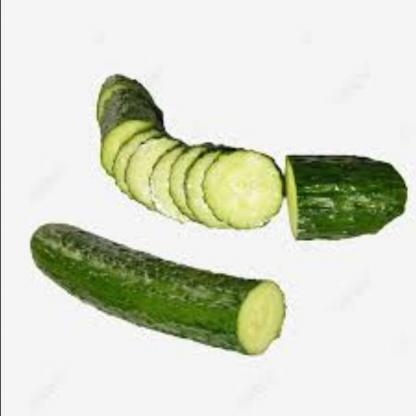cucumber: (16, 206, 285, 362), (85, 63, 274, 233), (278, 144, 414, 258)
